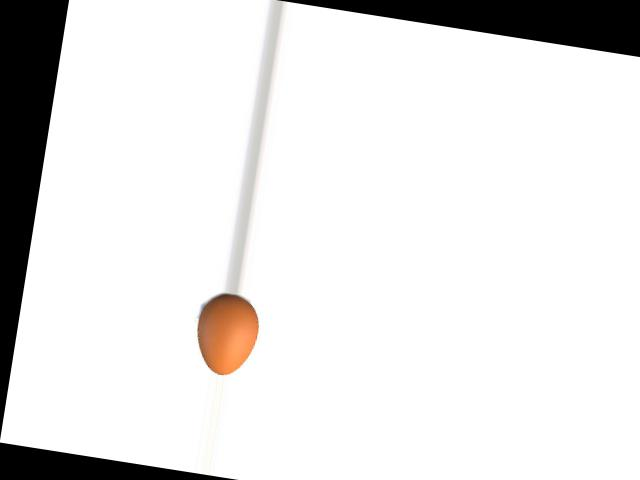egg: (190, 290, 263, 378)
